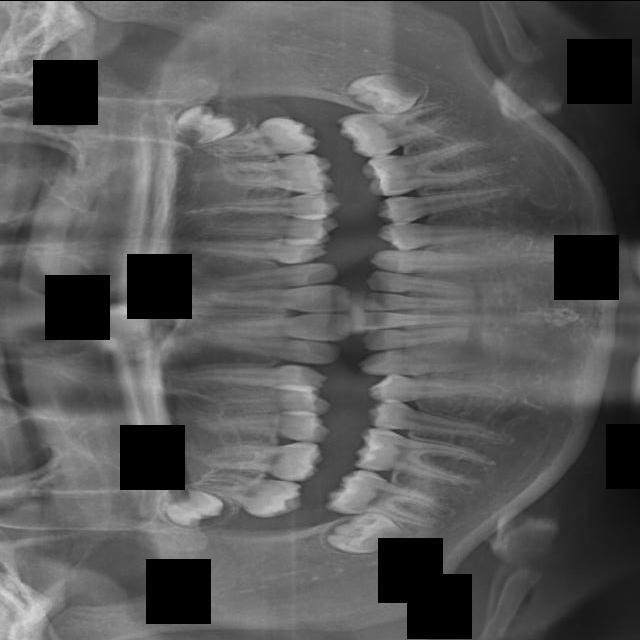3M ESPE Implant: (157, 482, 227, 535)
AGS Medikal Implant: (190, 258, 341, 300)
AMerOss Implant: (176, 230, 328, 266)
Amalgam filling: (206, 216, 338, 242)
Anthogyr Implant: (204, 189, 342, 225)
Bicon Implant: (228, 167, 265, 176)
BioHorizons Implant: (198, 113, 321, 159)
BioLife Implant: (174, 103, 240, 147)
Biomet 3i Implant: (343, 70, 427, 113)
Blue Sky Bio Implant: (335, 97, 462, 161)
Camlog Implant: (359, 135, 507, 200)
Caries: (183, 467, 304, 521)
Composite filling: (375, 185, 522, 224)
Cowellmedi Implant: (376, 222, 512, 249)
Crown: (369, 248, 504, 275)
DENTSPLY Implant: (365, 269, 480, 301)
Dentatus Implant: (361, 292, 472, 310)
Dentis Implant: (362, 311, 470, 329)
Dentium Implant: (361, 324, 472, 351)
Euroteknika Implant: (358, 348, 494, 376)
Filling: (366, 376, 501, 402)
Frontier Implant: (364, 398, 517, 443)
Hiossen Implant: (202, 438, 324, 481)
Implant: (323, 464, 456, 531)
Implant Direct: (352, 424, 497, 488)
Keystone Dental Implant: (324, 509, 409, 562)
MIS Implant: (193, 410, 329, 442)
Mandible: (194, 385, 333, 416)
Maxilla: (170, 364, 328, 388)
Megagen Implant: (188, 328, 340, 366)
Neodent Implant: (189, 312, 353, 341)
Neoss Implant: (194, 284, 352, 313)
